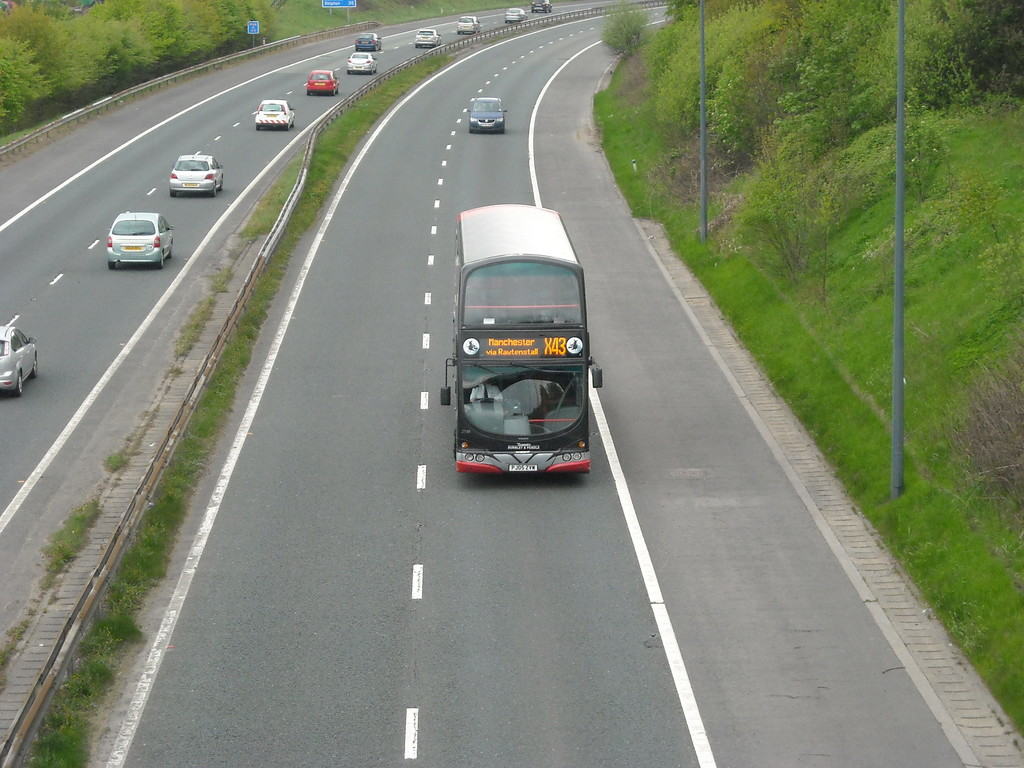Bus: (440, 201, 606, 483)
